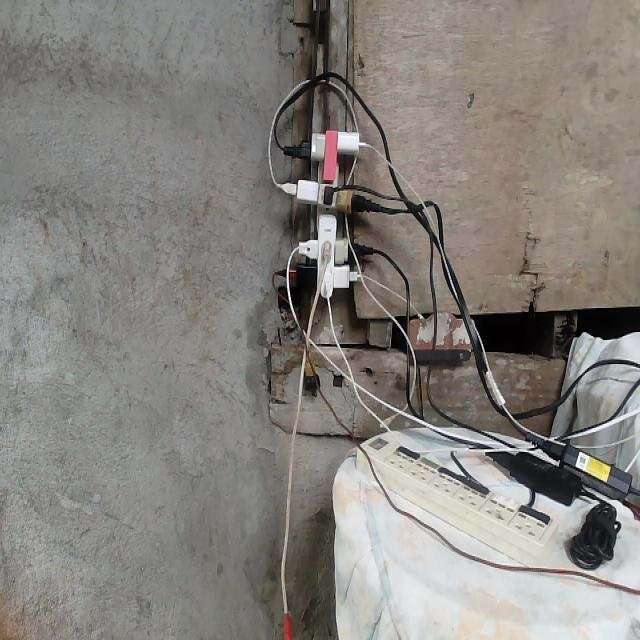-: (281, 124, 372, 303)
